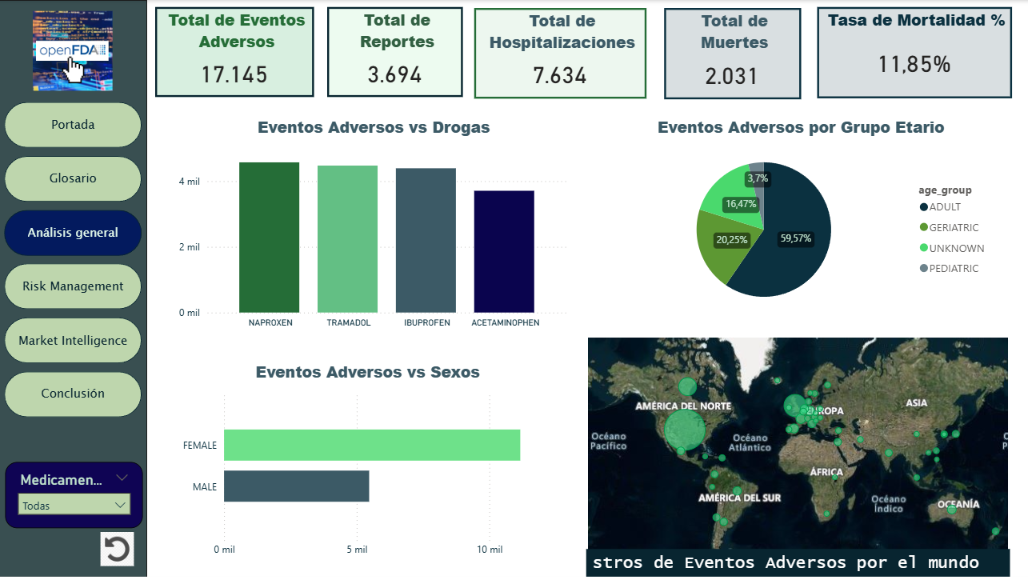

Layout of this report page (visuals, bound fields, positions):
{"tool":"powerbi","page":{"name":"Análisis general","canvas":[1280,720],"ordinal":2},"visuals":[{"type":"image","box":[0,550.3,182.5,133.1],"z":0},{"type":"map","fields":{"Category":["dim_patient.country"],"Size":["Tabla Medidas.Total Eventos Adversos"]},"box":[727.7,415.5,532.4,303.5],"z":1000},{"type":"card","title":"Total de Eventos Adversos","fields":{"Values":["Tabla Medidas.Total Eventos"]},"box":[194.1,8.7,197.8,112],"z":2000},{"type":"card","title":"Total de Reportes","fields":{"Values":["Tabla Medidas.Total Reportes"]},"box":[408,8.7,169.2,112],"z":3000},{"type":"card","title":"Total de Muertes","fields":{"Values":["Tabla Medidas.Total Muertes"]},"box":[827.4,9.6,170.2,113.9],"z":4000},{"type":"card","title":"Total de Hospitalizaciones","fields":{"Values":["Tabla Medidas.Total Hospitalizaciones"]},"box":[591.4,9.6,214.1,112.5],"z":5000},{"type":"card","title":"Tasa de Mortalidad %","fields":{"Values":["Tabla Medidas.Tasa Mortalidad %"]},"box":[1017.6,8.7,242.6,113.2],"z":6000},{"type":"pieChart","title":"Eventos Adversos por Grupo Etario","fields":{"Category":["dim_patient.age_group"],"Y":["Tabla Medidas.Total Eventos Adversos"]},"box":[753.3,144.1,487.1,256.6],"z":7000},{"type":"clusteredColumnChart","title":"Eventos Adversos vs Drogas","fields":{"Category":["dim_drug.drug_name"],"Y":["Tabla Medidas.Total Eventos Adversos"]},"box":[219.6,144.1,494,271.7],"z":8000},{"type":"clusteredBarChart","title":"Eventos Adversos vs Sexos","fields":{"Category":["dim_patient.patient_sex"],"Y":["Tabla Medidas.Total Eventos Adversos"]},"box":[219.6,448.7,478.9,252.5],"z":9000},{"type":"shape","box":[0,0,183.9,719],"z":10000},{"type":"pageNavigator","box":[6.2,126.9,171.7,396.8],"z":11000},{"type":"image","box":[5,13.7,172.9,99.5],"z":12000},{"type":"ScrollingTextVisual1448795304508","fields":{"Category":["dim_patient.country"],"Measure Absolute":["Tabla Medidas.Total Eventos Adversos"]},"box":[730,683.4,526.9,35.7],"z":13000},{"type":"slicer","fields":{"Values":["dim_drug.drug_name"]},"box":[6.9,575,171.5,82.3],"z":14000},{"type":"image","box":[124.4,661.8,44.8,42.3],"z":14001}]}

Visuals, with their boxes on the page's 1280x720 design canvas (x1, y1, x2, y2). These are canvas units, not pixel positions in the 1028x577 screenshot, which may show the page scaled, cropped or inside an application window:
image: bbox=(0, 550, 182, 683)
map - dim_patient.country x Tabla Medidas.Total Eventos Adversos: bbox=(728, 416, 1260, 719)
"Total de Eventos Adversos" card: bbox=(194, 9, 392, 121)
"Total de Reportes" card: bbox=(408, 9, 577, 121)
"Total de Muertes" card: bbox=(827, 10, 998, 124)
"Total de Hospitalizaciones" card: bbox=(591, 10, 806, 122)
"Tasa de Mortalidad %" card: bbox=(1018, 9, 1260, 122)
"Eventos Adversos por Grupo Etario" pieChart: bbox=(753, 144, 1240, 401)
"Eventos Adversos vs Drogas" clusteredColumnChart: bbox=(220, 144, 714, 416)
"Eventos Adversos vs Sexos" clusteredBarChart: bbox=(220, 449, 698, 701)
shape: bbox=(0, 0, 184, 719)
pageNavigator: bbox=(6, 127, 178, 524)
image: bbox=(5, 14, 178, 113)
ScrollingTextVisual1448795304508 - dim_patient.country x Tabla Medidas.Total Eventos Adversos: bbox=(730, 683, 1257, 719)
slicer - dim_drug.drug_name: bbox=(7, 575, 178, 657)
image: bbox=(124, 662, 169, 704)
